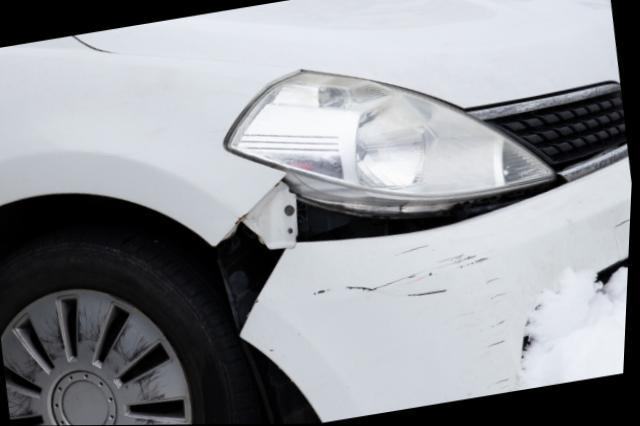dislocated part: (219, 174, 560, 424)
scratch: (309, 243, 521, 410)
